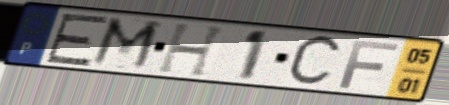1: (238, 29, 272, 82)
C: (283, 33, 345, 90)
E: (42, 12, 113, 68)
F: (336, 39, 402, 91)
H: (154, 22, 231, 79)
M: (86, 14, 166, 74)
